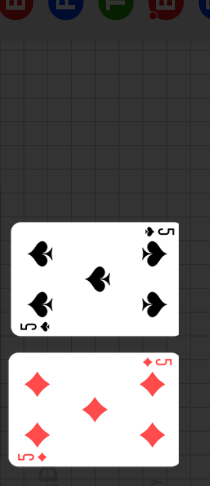5S: (19, 320, 52, 333), (143, 226, 176, 238)
